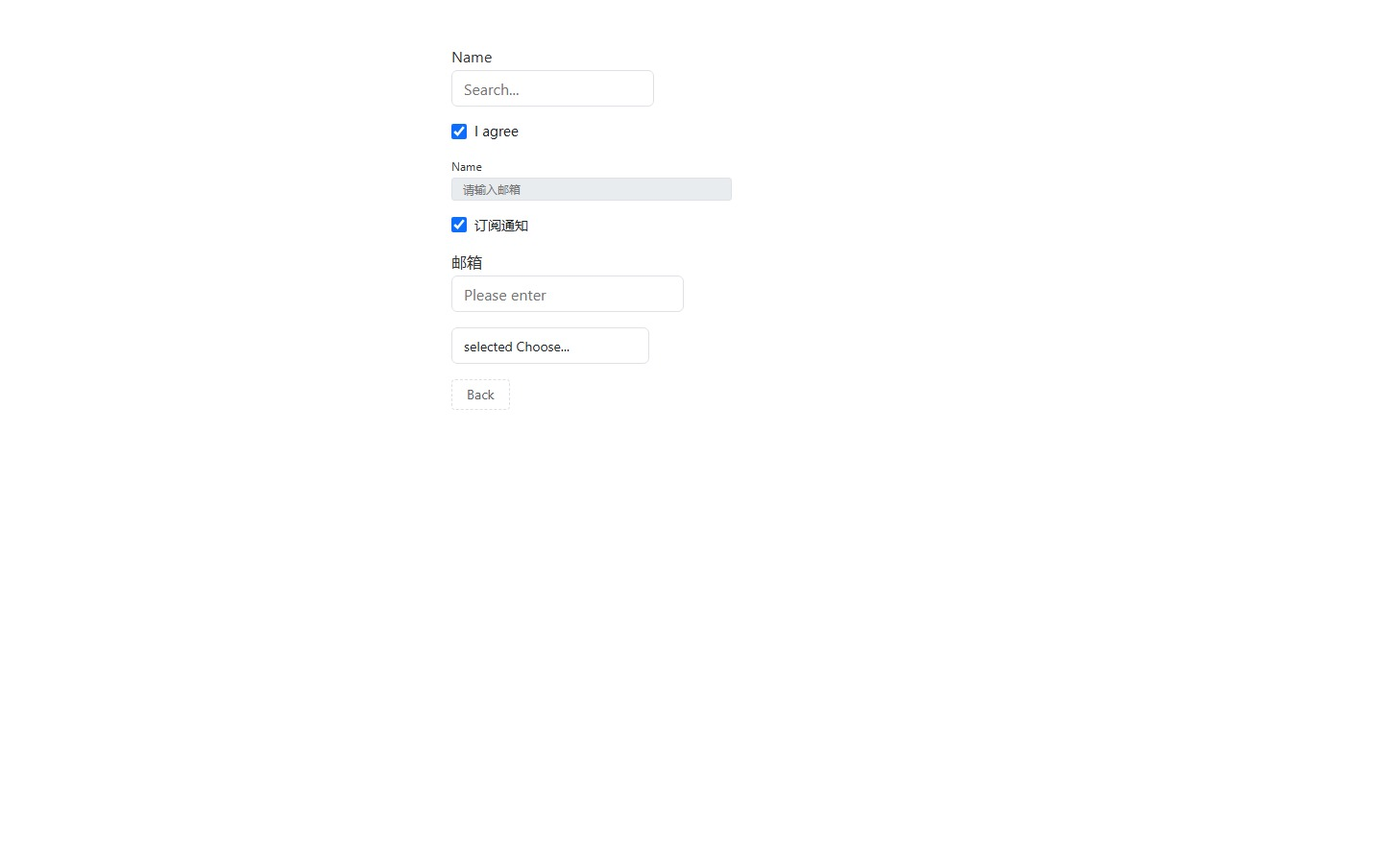button: (451, 379, 510, 410)
checkbox: (451, 123, 467, 139), (451, 217, 467, 232)
icon: (474, 216, 528, 234), (474, 122, 519, 140)
input: (451, 276, 684, 312), (451, 70, 654, 107), (451, 177, 732, 200)
radio: (451, 216, 528, 234), (451, 122, 519, 140)
select: (451, 327, 649, 364)
